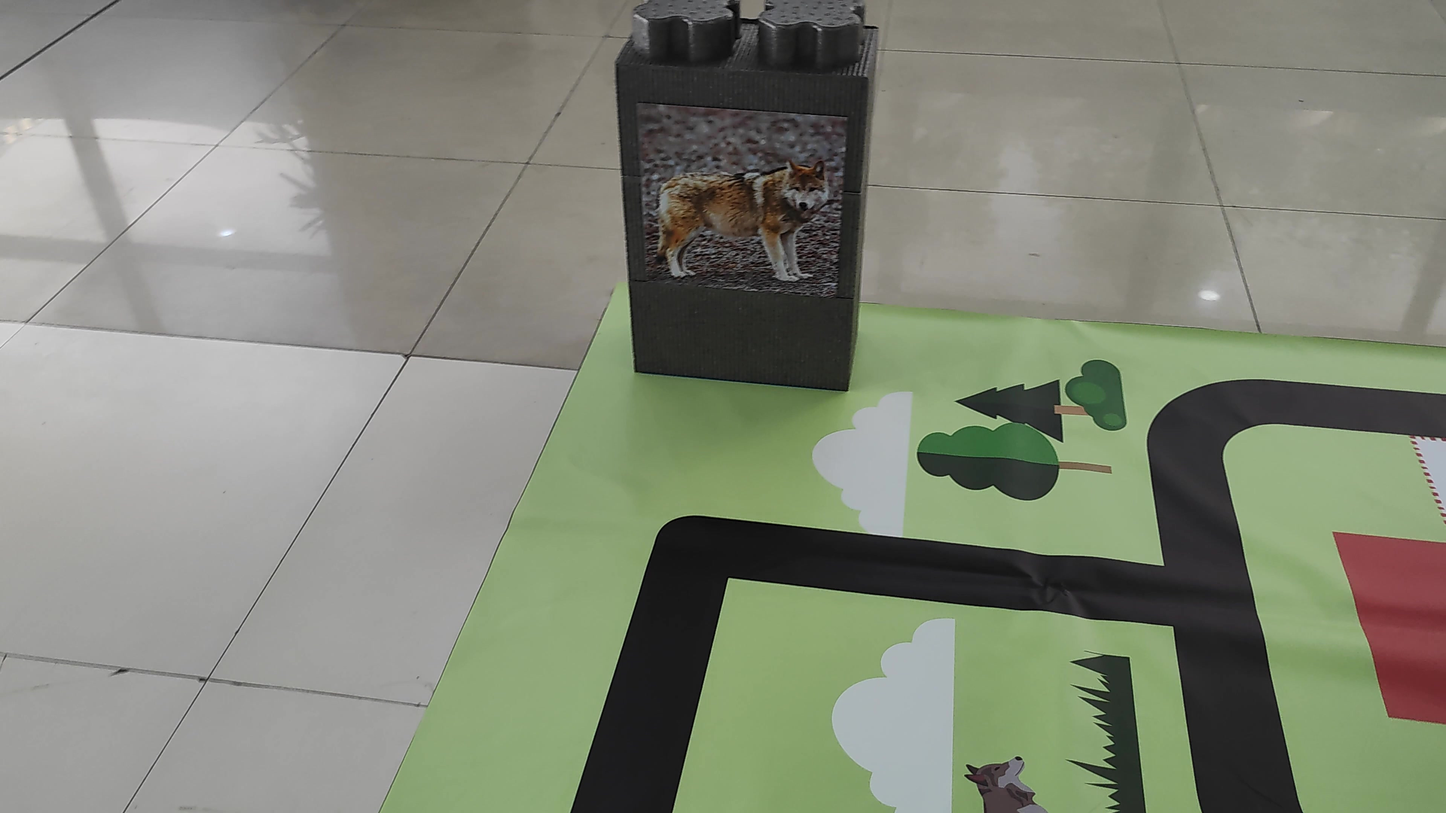wolf: (643, 109, 836, 285)
